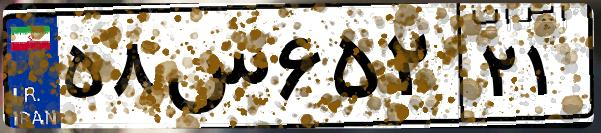1: (525, 38, 570, 115)
2: (385, 28, 445, 110), (475, 38, 525, 113)
5: (330, 28, 385, 110), (57, 26, 110, 100)
6: (270, 28, 330, 110)
8: (110, 28, 158, 98)
س: (158, 20, 270, 120)
